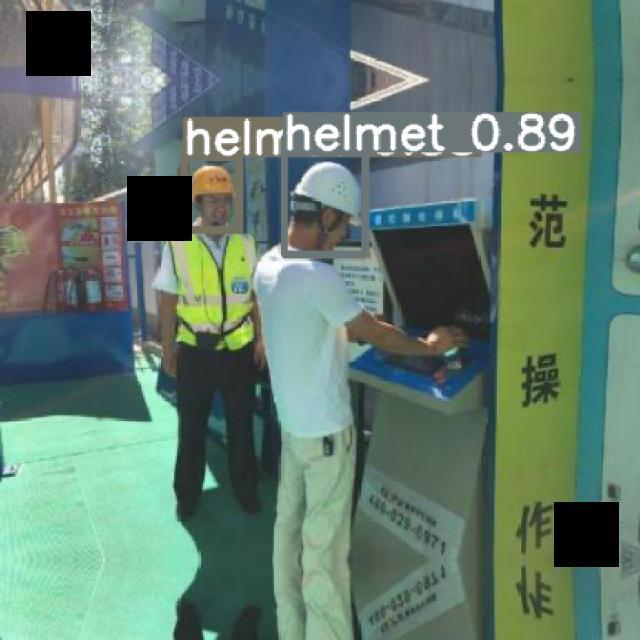helmet: (289, 160, 362, 226), (191, 165, 234, 201)
